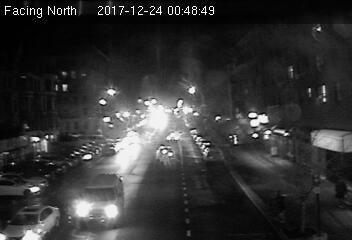car: (72, 171, 123, 224), (1, 202, 59, 240), (201, 148, 224, 162), (156, 144, 175, 160), (101, 144, 117, 154)
